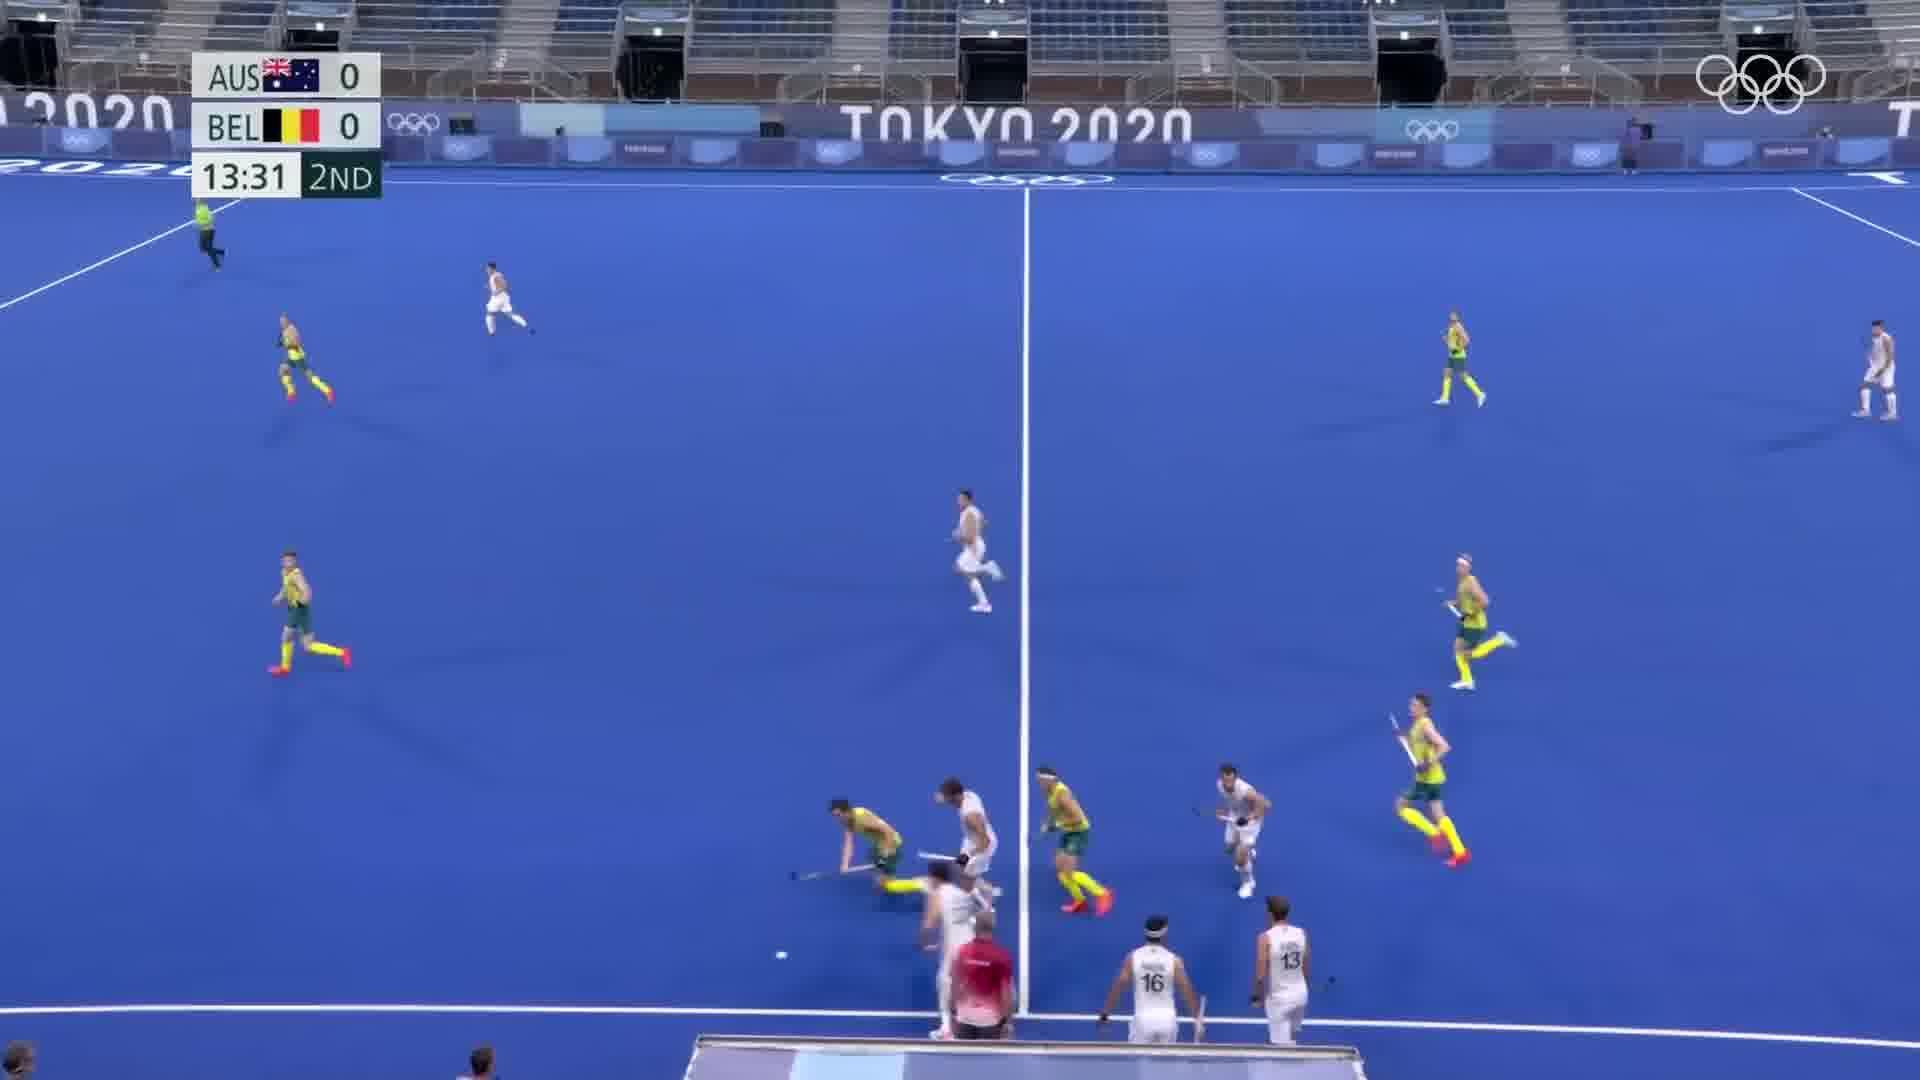ball: (764, 938, 797, 971)
